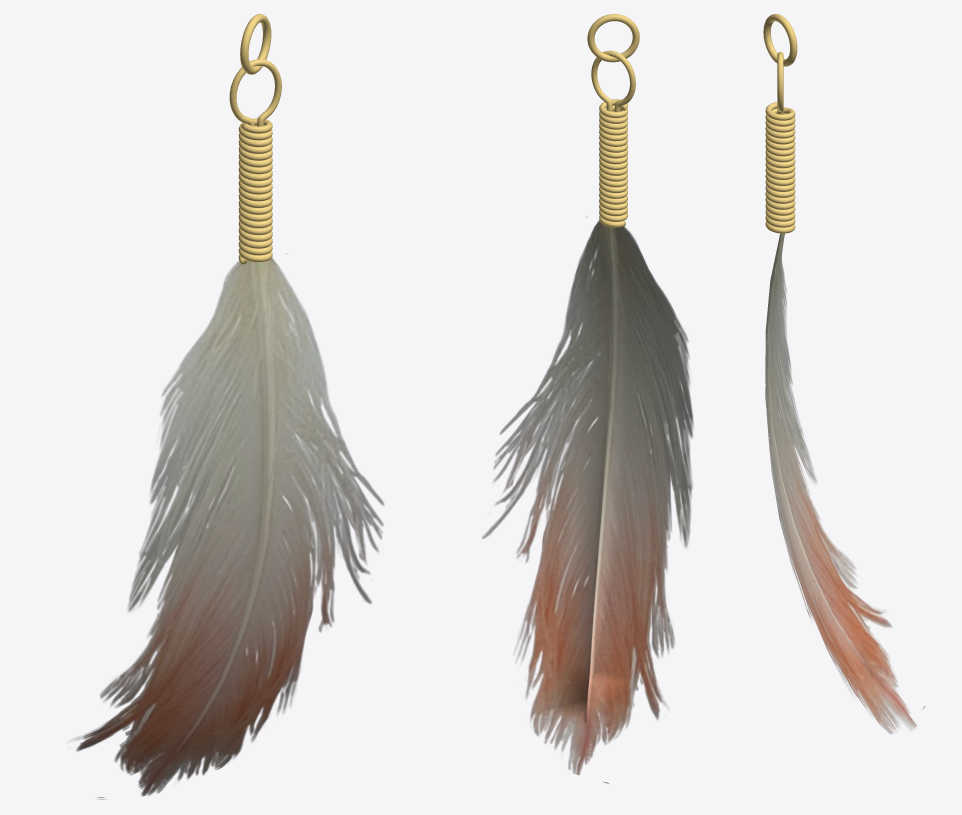
File: feather.glb
3 renders of one model, left to right at view 1: azimuth 30°, elevation 25°; view 2: azimuth 150°, elevation 25°; view 3: azimuth 270°, elevation 25°, orthographic. The views are drawn at different scales.
Visible parts, largest first — view 1: feather, gold; view 2: feather, gold; view 3: feather, gold.
Boxes of the visible parts, x1=… form: feather: x1=74, y1=253, x2=384, y2=799; gold: x1=229, y1=14, x2=281, y2=264; feather: x1=481, y1=217, x2=693, y2=783; gold: x1=587, y1=14, x2=639, y2=227; feather: x1=765, y1=233, x2=925, y2=734; gold: x1=763, y1=14, x2=797, y2=233.
Size of the model in its own units: 0.0254 by 0.0639 by 0.0146.
2 materials, 1 textured.
